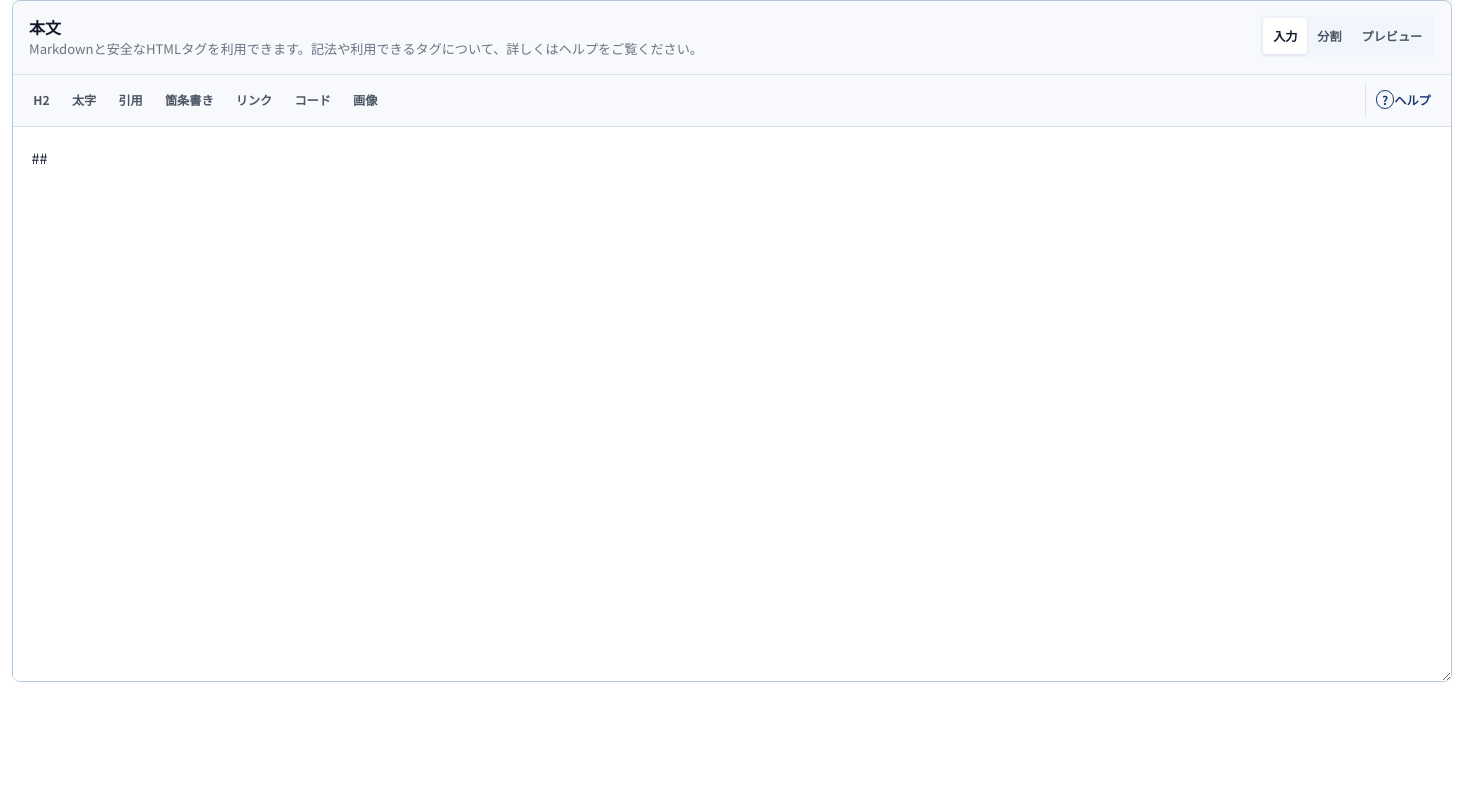
Test: ArticleEditor › keeps an incomplete heading marker editable
Click the button "分割".
click(1329, 36)  # box [1307,18,1352,54]
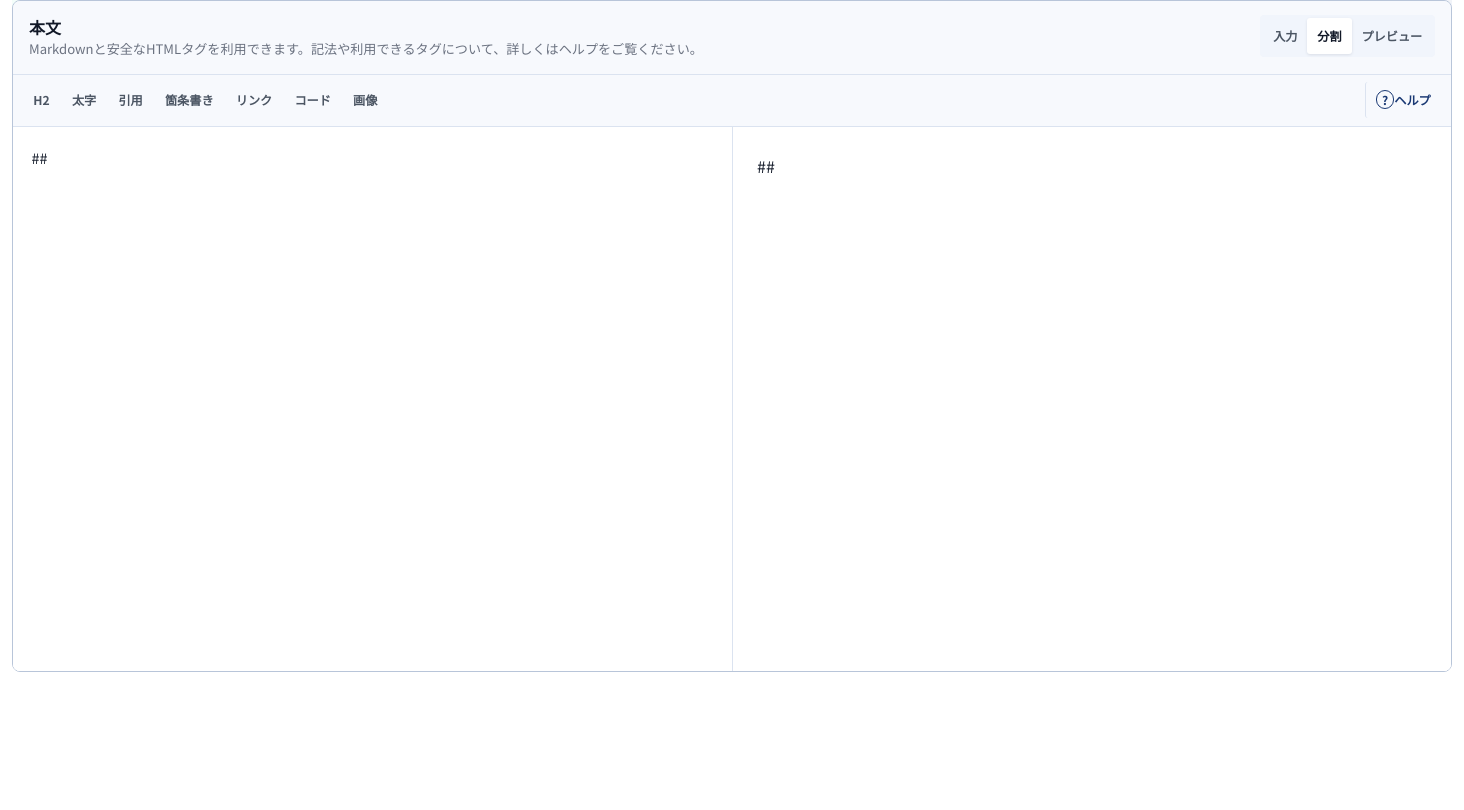
Result: the element named "本文プレビュー" reads "##" at [757,154,775,178]
